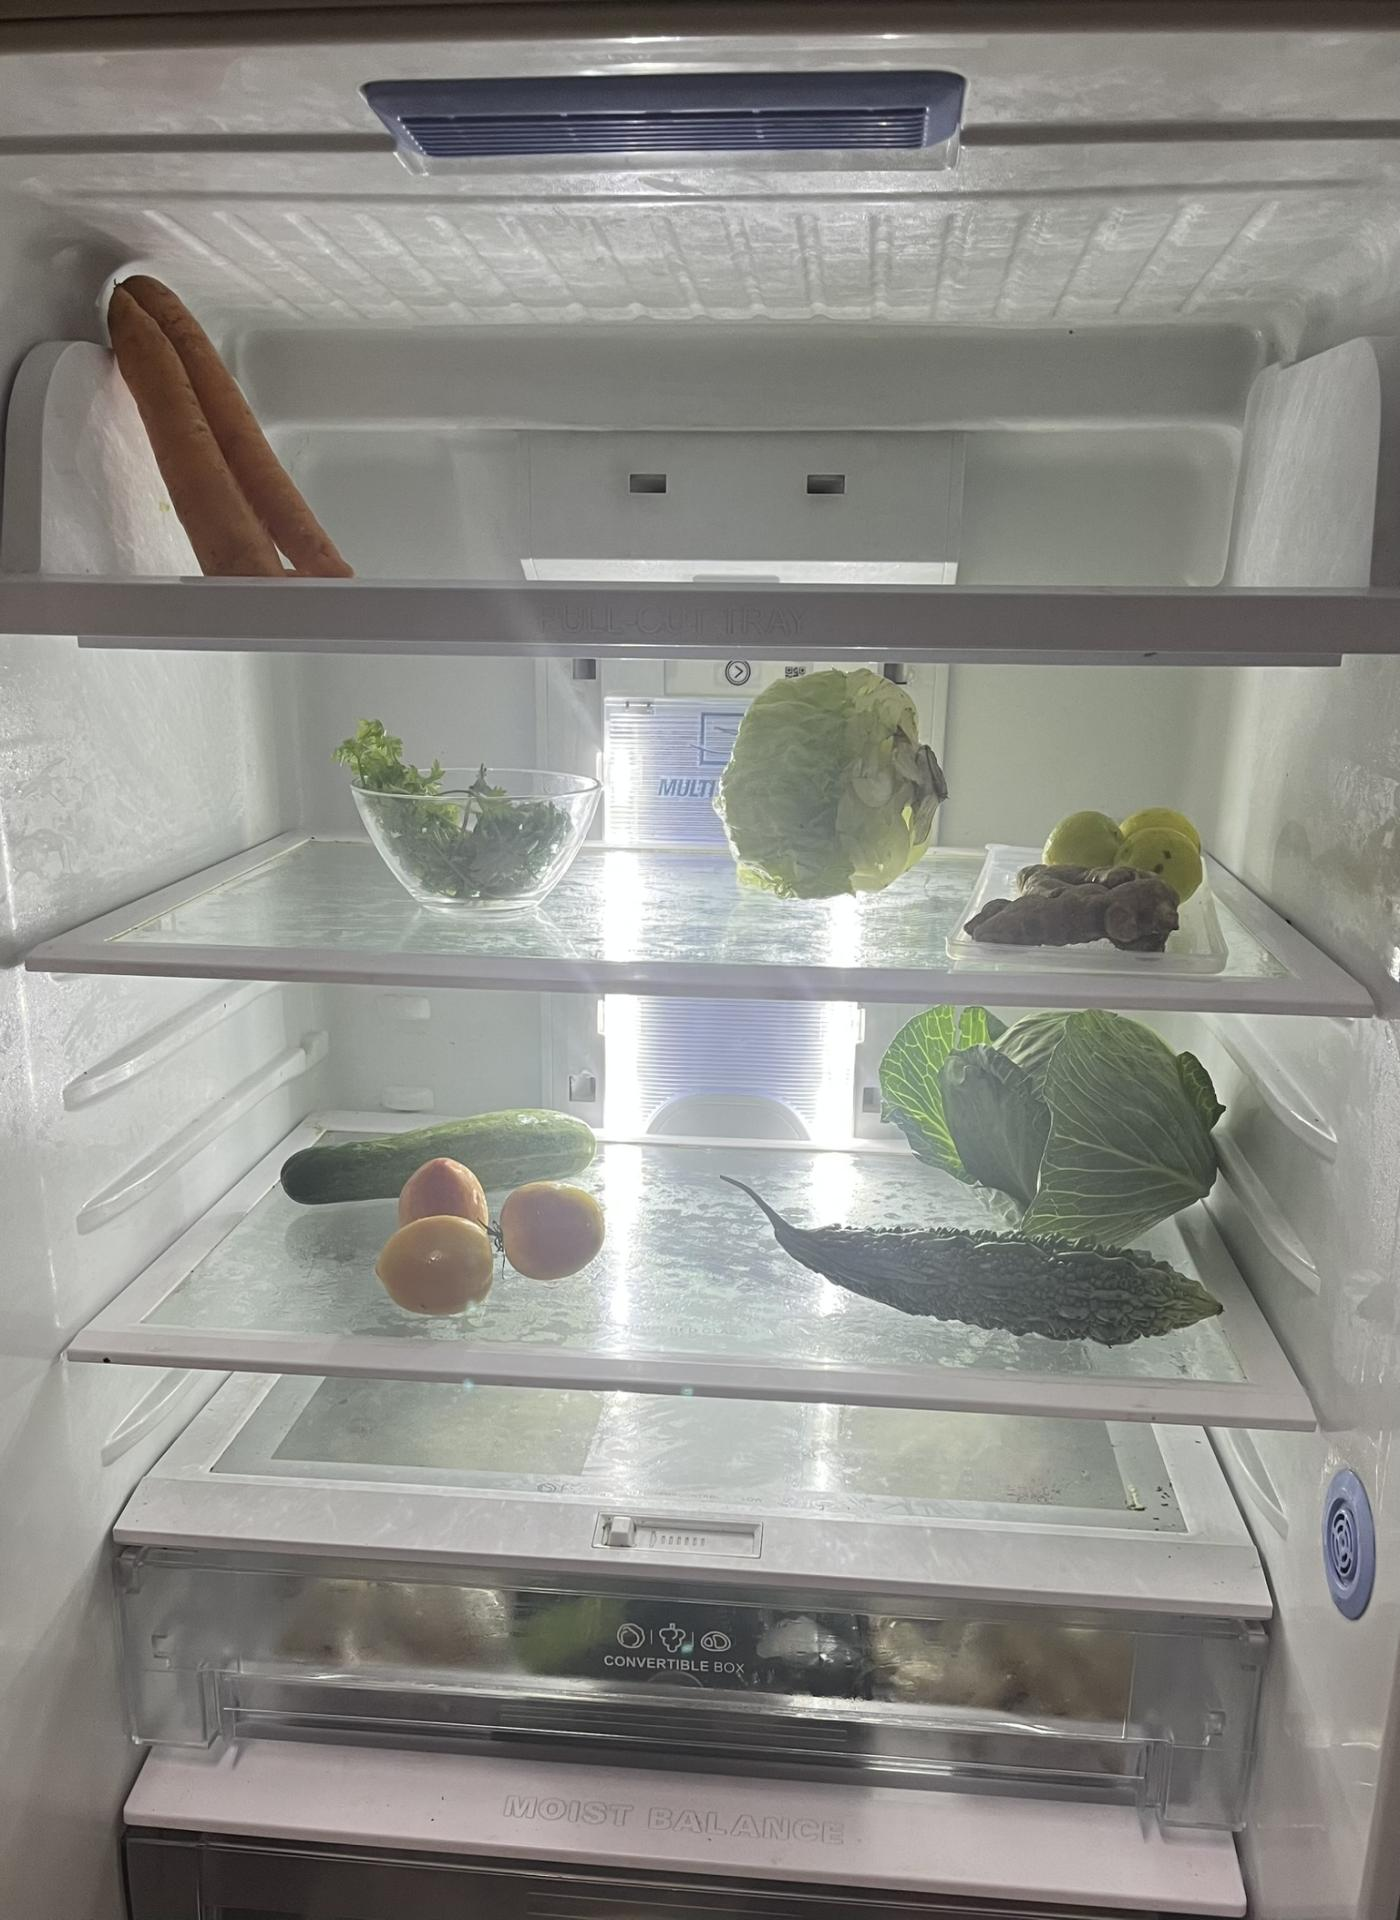cabbage: (878, 1003, 1233, 1216)
carrots: (97, 259, 355, 578)
coriander: (349, 713, 574, 906)
cucumber: (295, 1103, 610, 1216)
ginger: (954, 866, 1188, 966)
lemon: (1036, 809, 1197, 887)
lettuce: (711, 666, 951, 903)
tomato: (377, 1160, 592, 1328)
